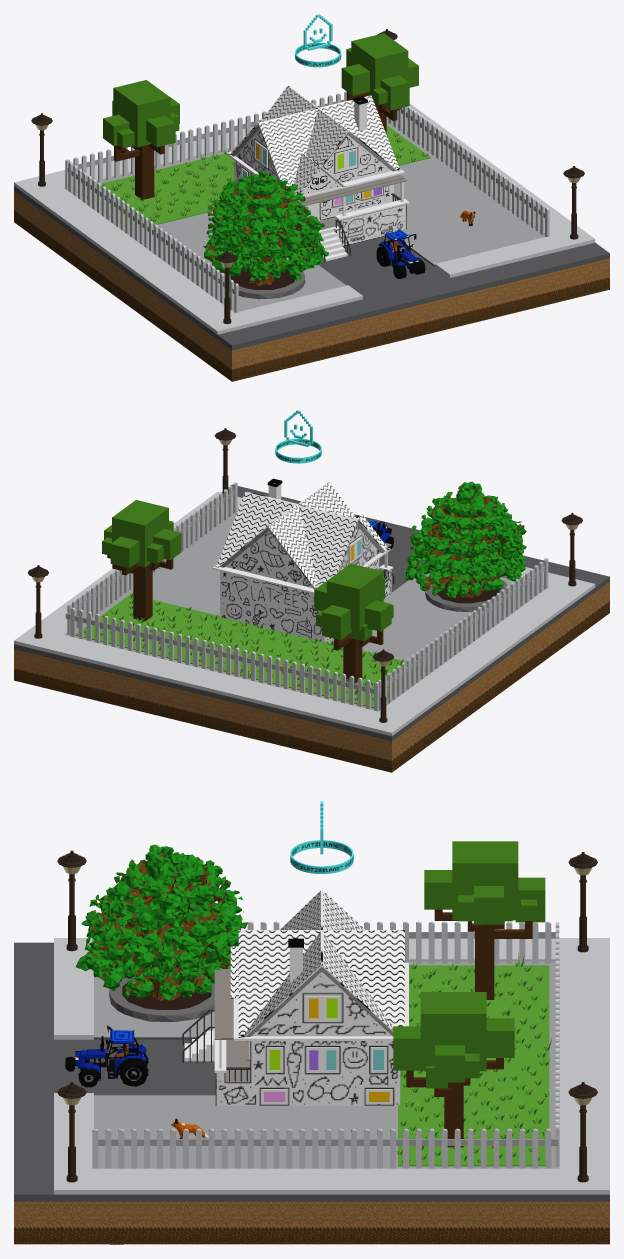
3 views of the same model, one above another, from view 1: azimuth 30°, elevation 25°; view 2: azimuth 150°, elevation 25°; view 3: azimuth 270°, elevation 25° (orthographic). The views are drawn at different scales.
Parts seen in each view (by area): view 1: Cube.004, Cube.879, OBJRANDOM_CEIBA, VEHICLES_TRACTOR, TYPE_PREMIUM; view 2: Cube.004, Cube.879, OBJRANDOM_CEIBA, TYPE_PREMIUM; view 3: Cube.004, Cube.879, OBJRANDOM_CEIBA, VEHICLES_TRACTOR, TYPE_PREMIUM.
Boxes of the visible parts, x1=… form: Cube.004: x1=14, y1=29, x2=609, y2=381; Cube.879: x1=226, y1=86, x2=409, y2=262; OBJRANDOM_CEIBA: x1=203, y1=170, x2=328, y2=299; VEHICLES_TRACTOR: x1=376, y1=229, x2=425, y2=278; TYPE_PREMIUM: x1=295, y1=14, x2=341, y2=67; Cube.004: x1=14, y1=428, x2=609, y2=772; Cube.879: x1=212, y1=478, x2=394, y2=642; OBJRANDOM_CEIBA: x1=404, y1=481, x2=526, y2=611; TYPE_PREMIUM: x1=275, y1=410, x2=321, y2=463; Cube.004: x1=14, y1=841, x2=609, y2=1244; Cube.879: x1=182, y1=890, x2=408, y2=1105; OBJRANDOM_CEIBA: x1=75, y1=844, x2=247, y2=1021; VEHICLES_TRACTOR: x1=65, y1=1025, x2=148, y2=1087; TYPE_PREMIUM: x1=290, y1=801, x2=353, y2=873.
Size of the model in its own units: 4000 by 2440 by 4000.
Materials: 37 (11 with a texture image).
